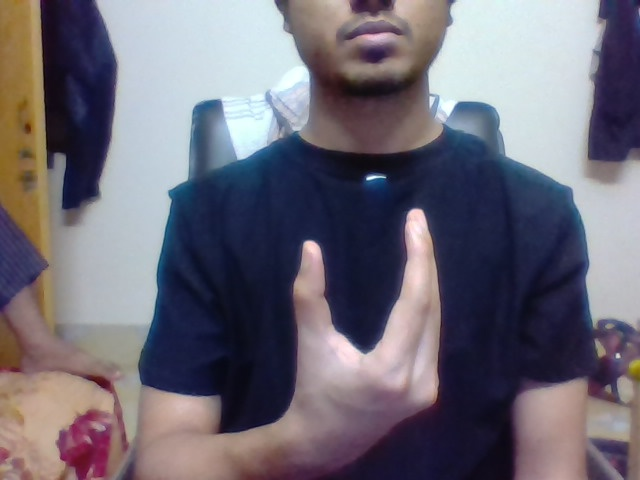U: (274, 199, 450, 383)
